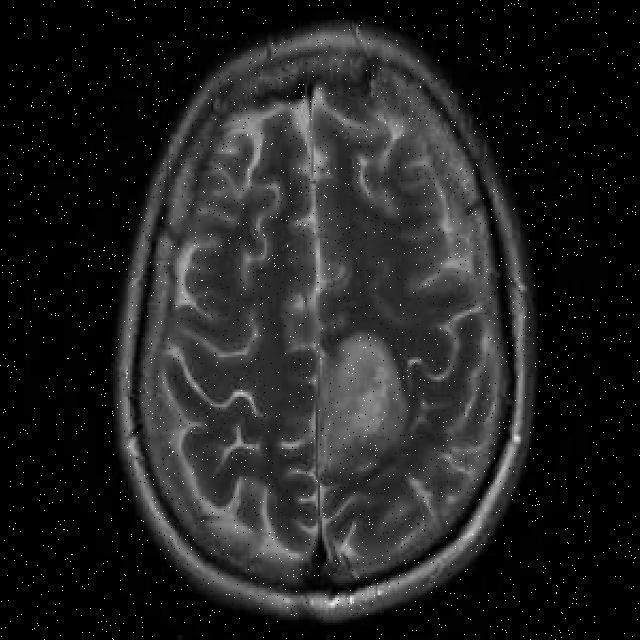Meningioma: (322, 336, 398, 474)
